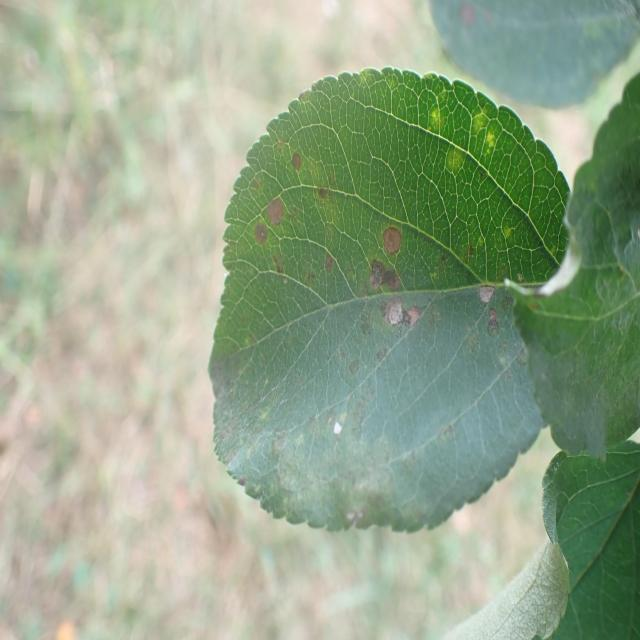frog-eye-leaf-spot: (207, 65, 571, 532)
